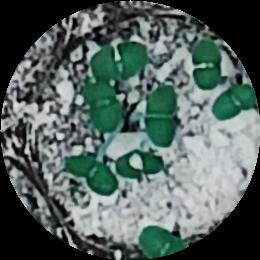Basil: (95, 42, 149, 82), (86, 82, 126, 133), (64, 156, 114, 195), (146, 87, 175, 149), (216, 86, 256, 122), (191, 42, 220, 86)
